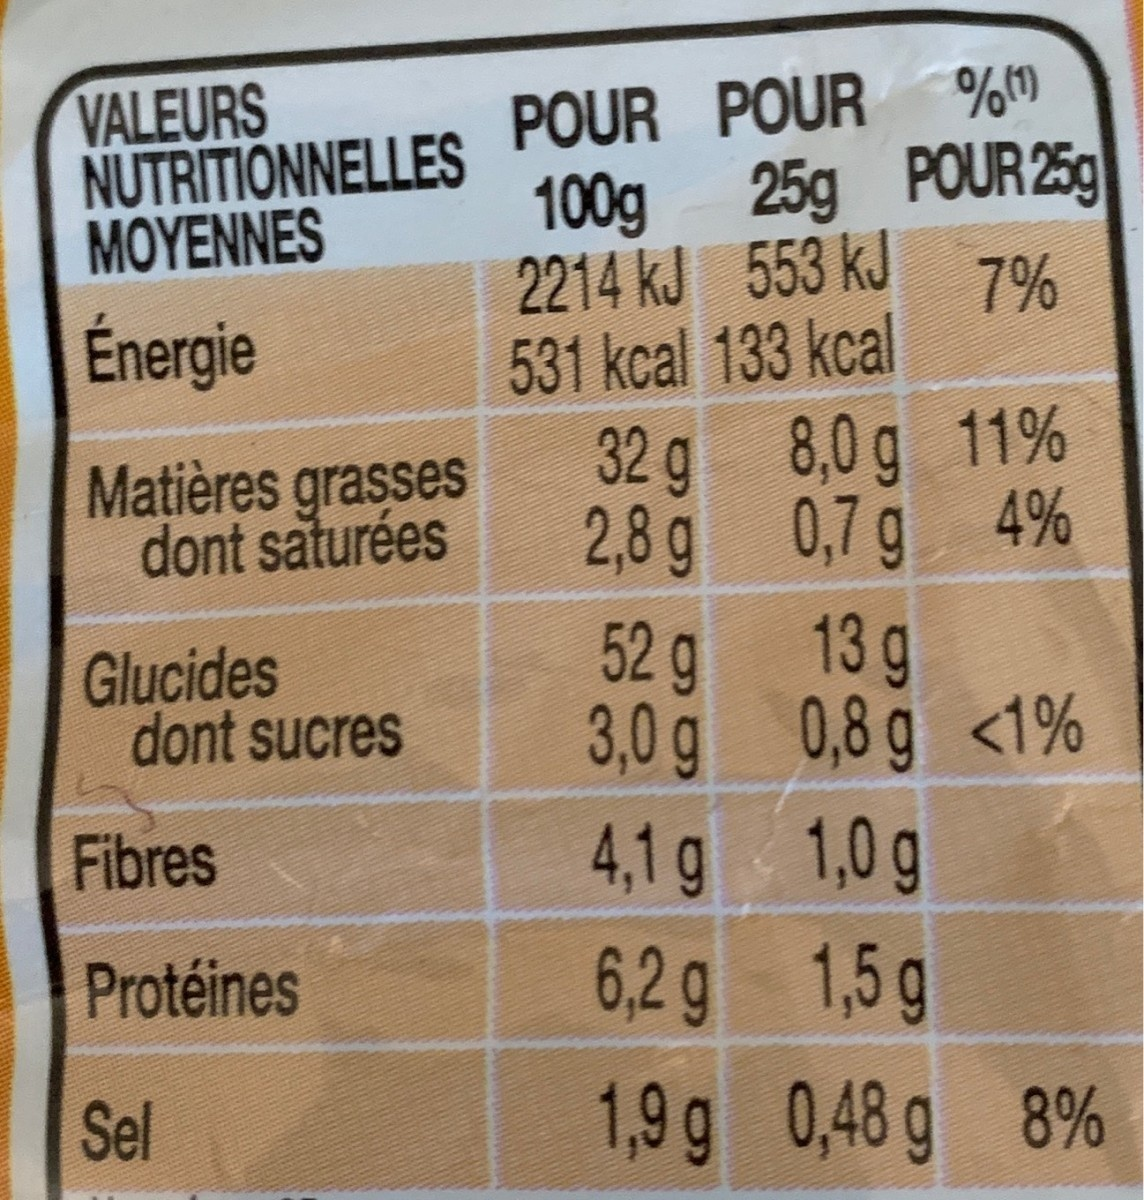column: (75, 80, 465, 1165), (716, 76, 928, 1168), (505, 87, 703, 1177), (955, 63, 1109, 1160)
table: (17, 24, 1144, 1186)
